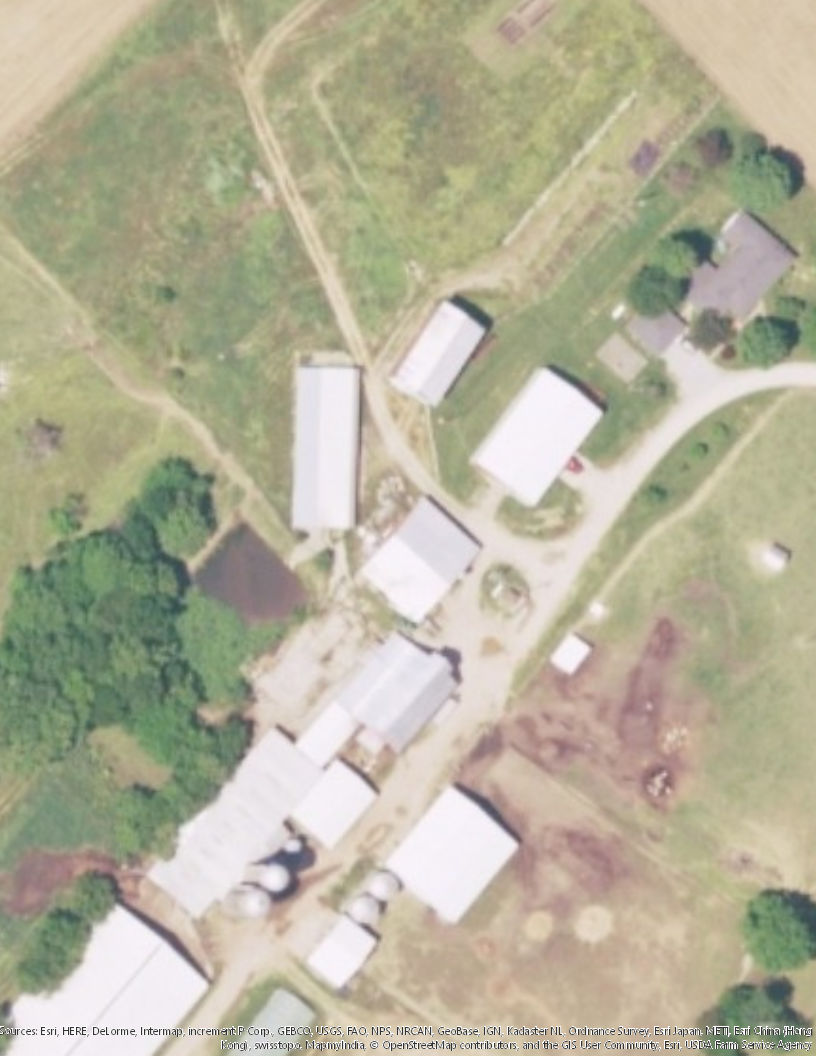cafo: (146, 625, 477, 935), (5, 898, 218, 1056), (375, 776, 530, 926), (467, 357, 613, 510), (361, 491, 487, 630), (288, 357, 367, 536), (391, 290, 494, 407)
